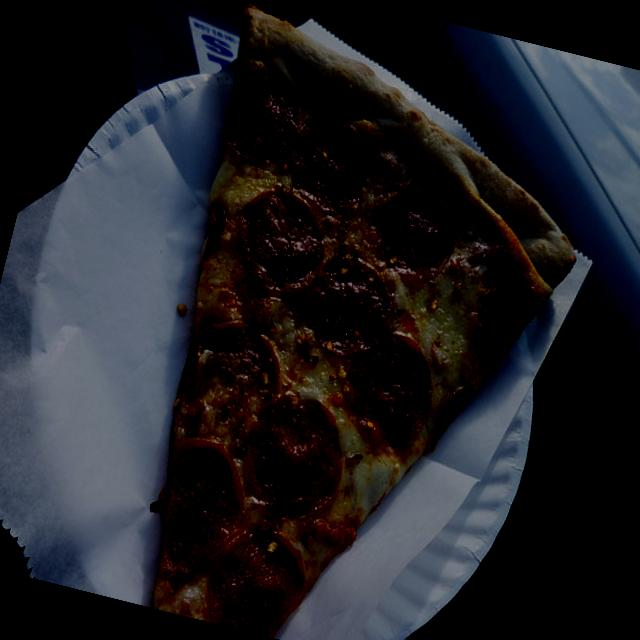Vehicle: (103, 0, 640, 577)
